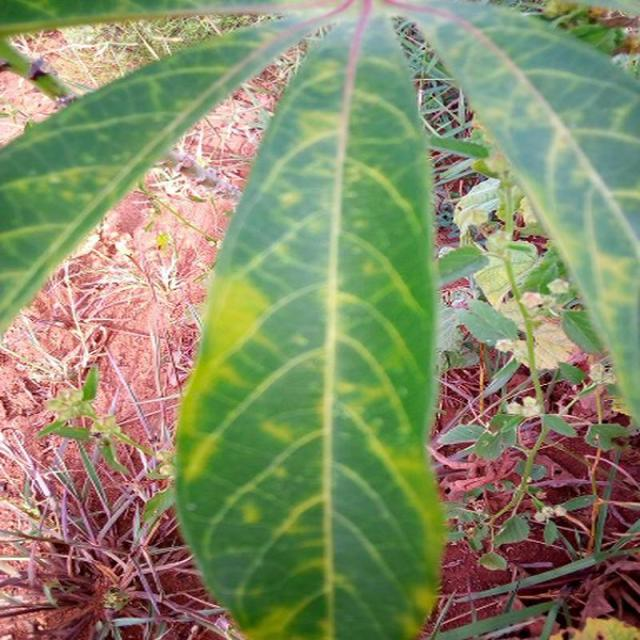cassava leaf: (172, 7, 448, 638)
